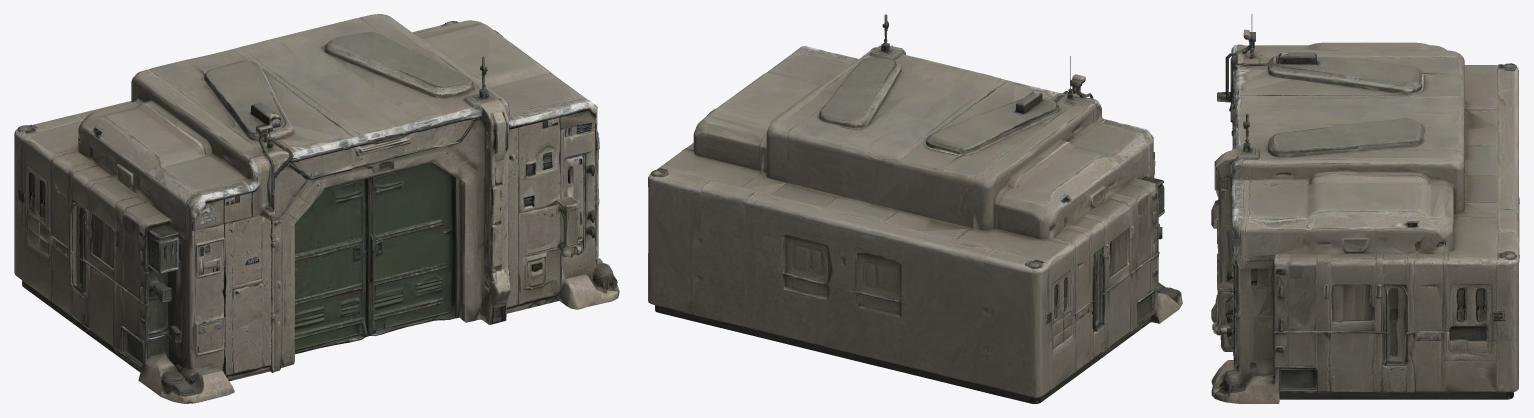
Rendered from t243_outpost_lod0.glb.
3 views of the same model, side by side, from view 1: azimuth 30°, elevation 25°; view 2: azimuth 150°, elevation 25°; view 3: azimuth 270°, elevation 25° (orthographic). The views are drawn at different scales.
Bounding box in the file's own units: 13 × 7.22 × 8.39.
1 material, 1 textured.
